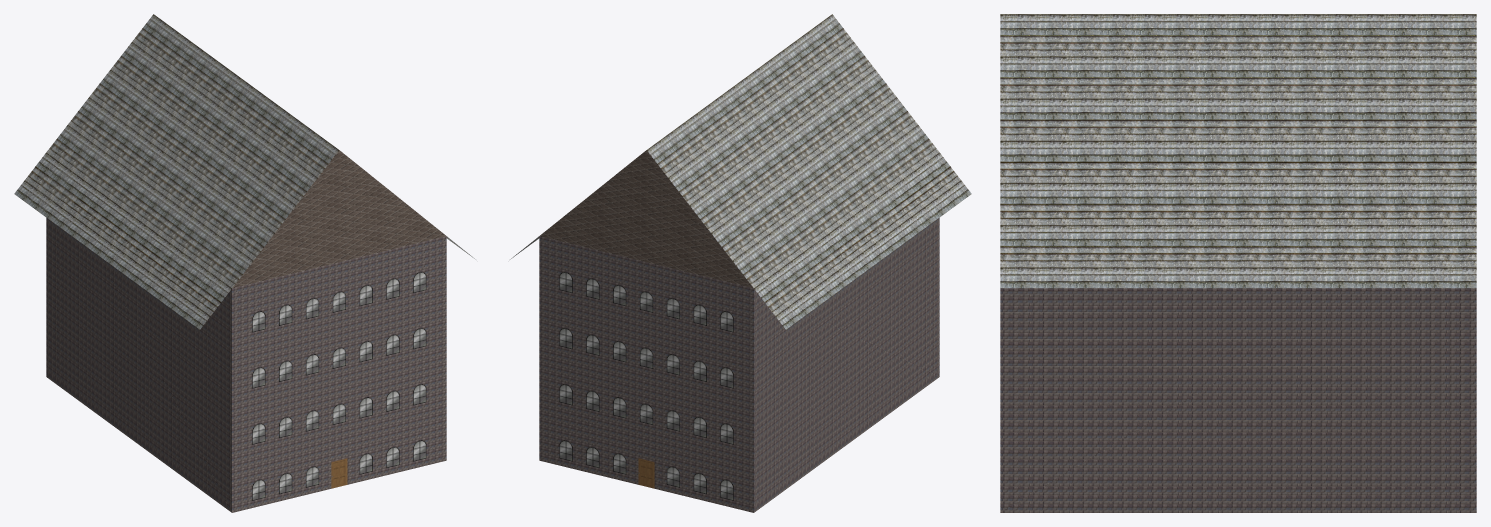
File: house 1a.fbx
The picture shows the model from 3 angles, left to right: view 1: azimuth 30°, elevation 25°; view 2: azimuth 150°, elevation 25°; view 3: azimuth 270°, elevation 25°; orthographic projection. The views are drawn at different scales.
Visible parts, largest first — view 1: house 1a; view 2: house 1a; view 3: house 1a.
Boxes of the visible parts, bbox=[...] form: house 1a: bbox=[14, 14, 475, 512]; house 1a: bbox=[510, 14, 971, 512]; house 1a: bbox=[1000, 14, 1476, 512].
Size of the model in its own units: 260 by 300 by 300.
